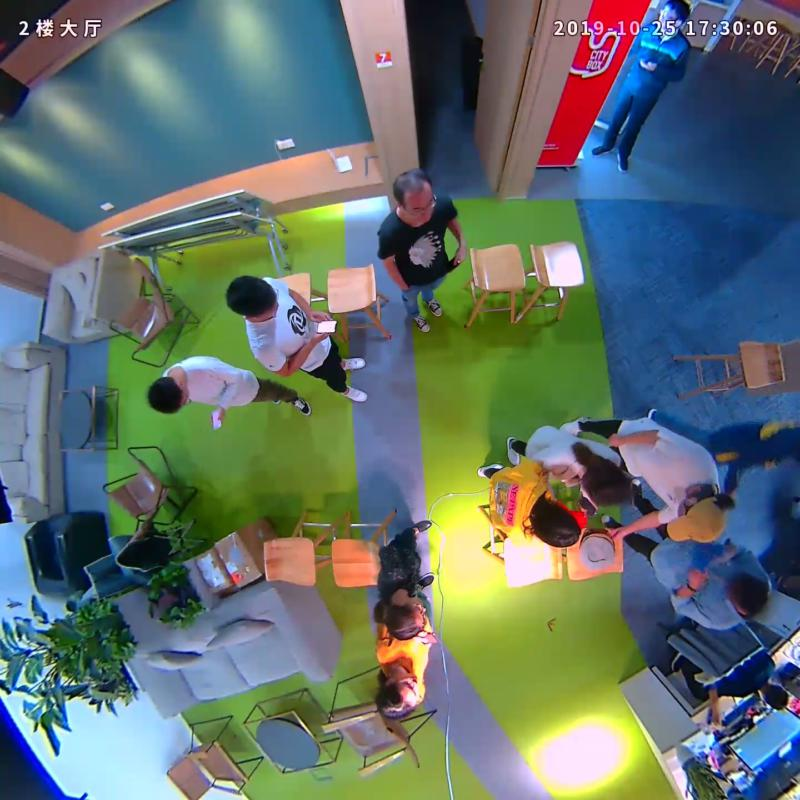head: (666, 492, 727, 546), (226, 274, 278, 324), (374, 667, 418, 721), (581, 466, 634, 510), (535, 501, 582, 549), (392, 169, 434, 222), (726, 573, 768, 618), (383, 599, 428, 640), (147, 374, 189, 414), (656, 1, 690, 32)
